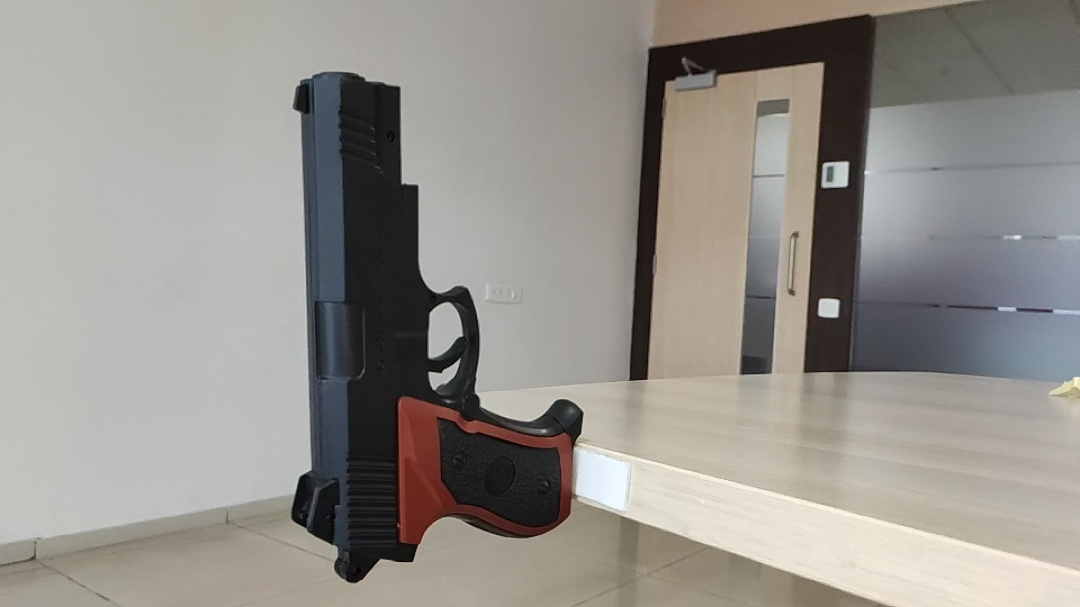gun: (279, 72, 589, 581)
